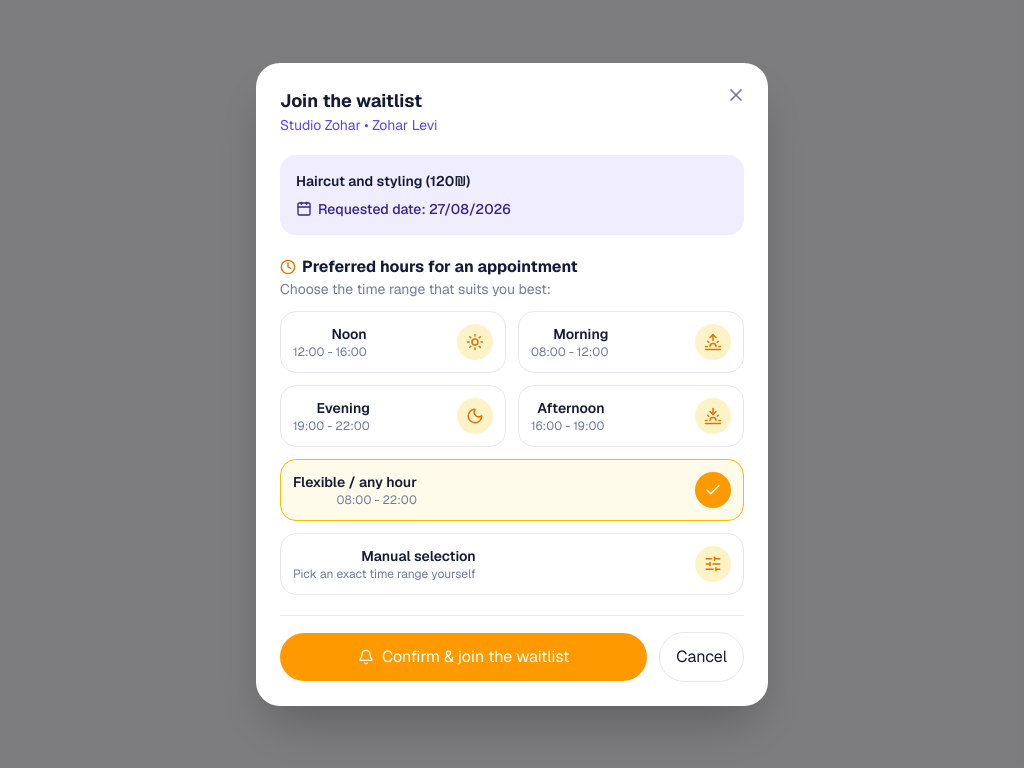
Test case: waitlist join modal › reveals manual from/to time inputs only once "manual" is selected
The width and height of the screenshot is (1024, 768).
Expected: the field labelled "From" is not shown
What coordinates should you click on to do the following:
click the button "Manual selection Pick an exact time range yourself"
I would click on:
 (418, 556)
Its box is [280,532,744,594].
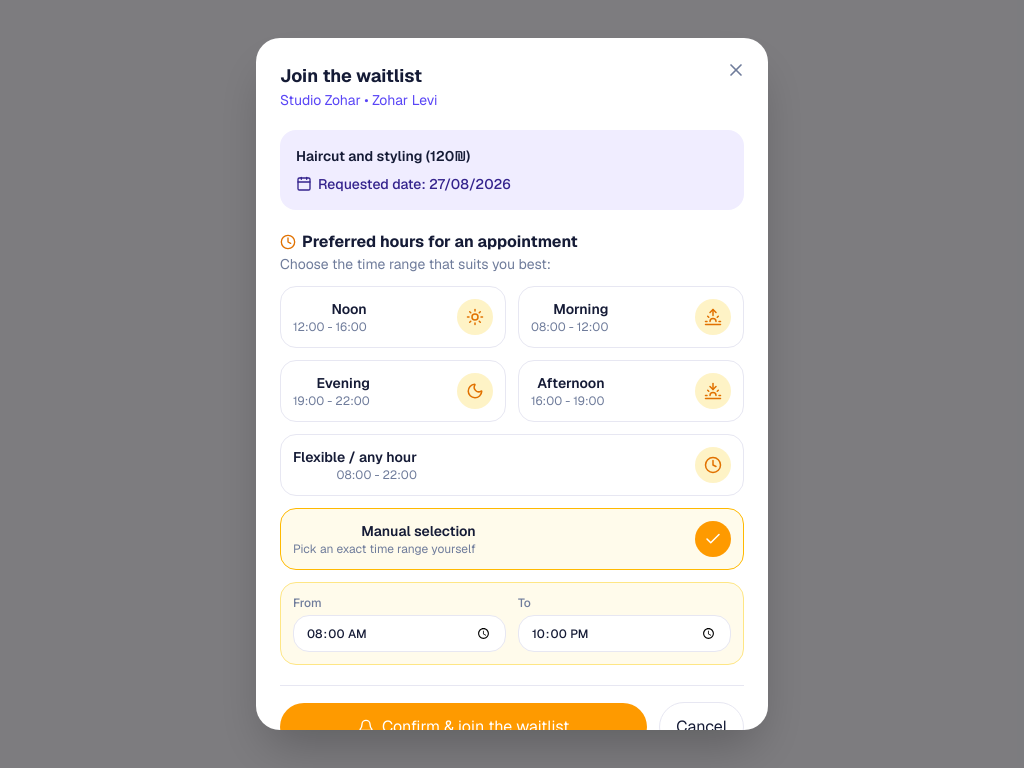
Now the time field labelled "From" holds "08:00", box [293,615,506,652]
Now the time field labelled "To" holds "22:00", box [518,615,731,652]
